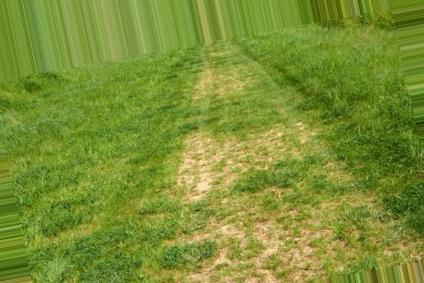patch: (192, 136, 268, 212), (235, 215, 321, 271), (194, 221, 228, 283), (199, 66, 235, 98), (274, 128, 305, 156)
